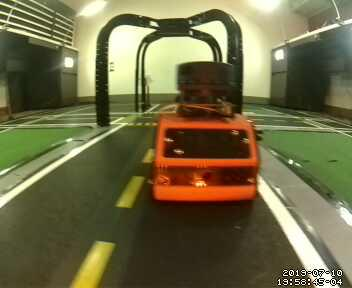pheeno: (148, 59, 264, 206)
